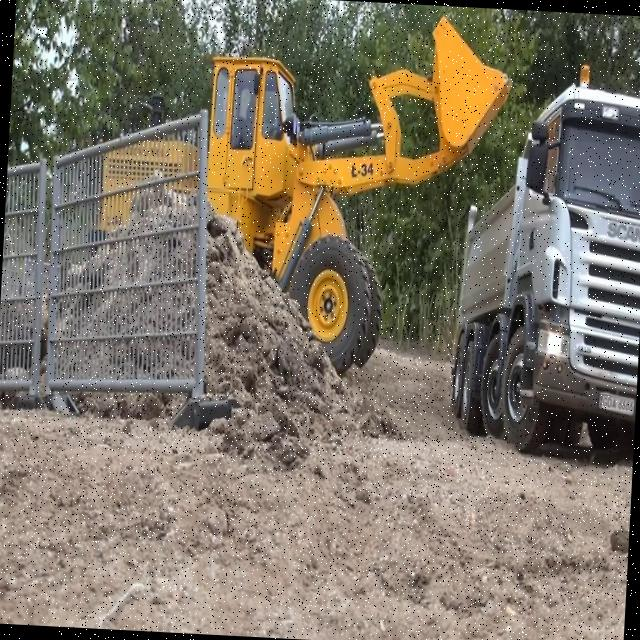Dump Truck: (447, 58, 640, 458)
Loader: (80, 0, 515, 389)
